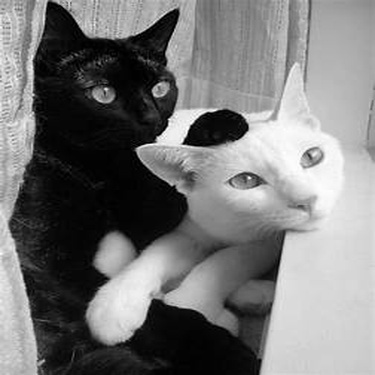cat: (11, 1, 259, 369), (83, 62, 347, 351)
